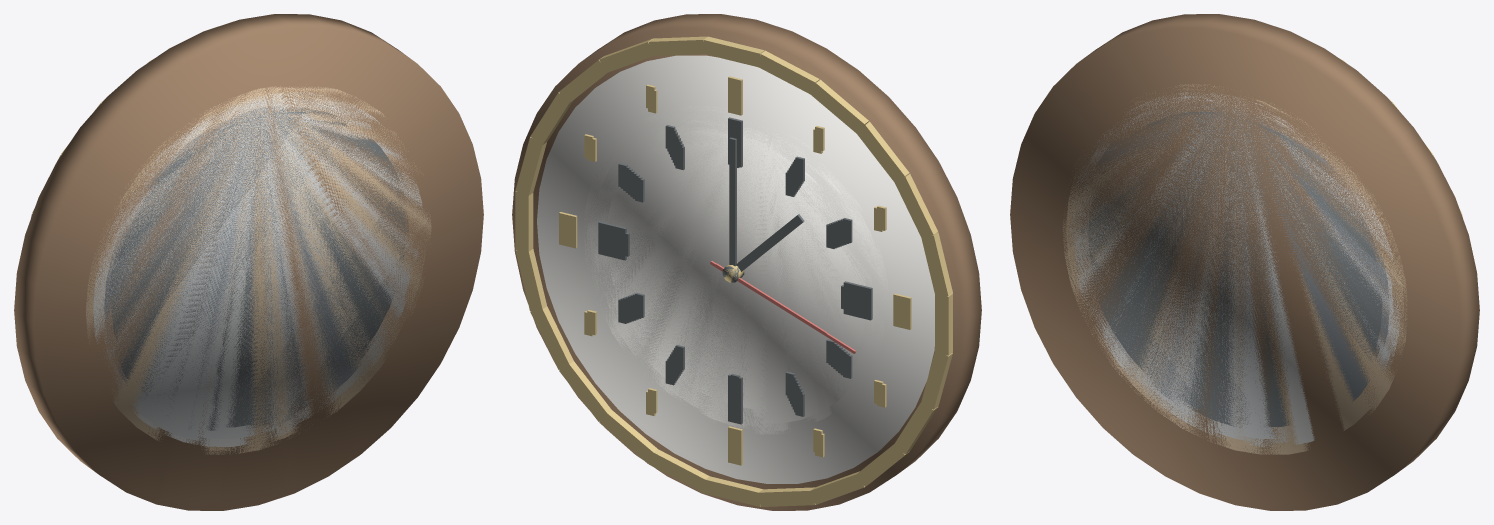
File: Gear08.fbx
3 views of the same model, side by side, from view 1: azimuth 30°, elevation 25°; view 2: azimuth 150°, elevation 25°; view 3: azimuth 330°, elevation 25° (orthographic).
Parts seen in each view (by area): view 1: Gear08_V10_Walnut, Gear08_V5_BrushedSteel, Gear08_V9_Walnut, Gear08_V8_Oak, Gear08_V3_Graphite, Gear08_V1_Charcoal, Gear08_V6_Chrome, Gear08_V7_Oak, Gear08_V2_Charcoal, Gear08_V4_BrushedSteel; view 2: Gear08_V10_Paper, Gear08_V10_Brass, Gear08_V1_Paper, Gear08_V10_Walnut, Gear08_V9_Paper, Gear08_V3_Paper, Gear08_V4_Paper, Gear08_V2_Paper, Gear08_V5_Paper, Gear08_V6_Paper, Gear08_V7_Paper, Gear08_V9_Walnut (+11 smaller); view 3: Gear08_V10_Walnut, Gear08_V9_Walnut, Gear08_V3_Graphite, Gear08_V1_Charcoal, Gear08_V2_Charcoal, Gear08_V6_Chrome, Gear08_V4_BrushedSteel, Gear08_V7_Oak, Gear08_V8_Oak, Gear08_V5_BrushedSteel.
Boxes of the visible parts, x1,y1,x2,y2 form: Gear08_V10_Walnut: (14,14,483,510); Gear08_V5_BrushedSteel: (97,96,418,442); Gear08_V9_Walnut: (39,33,477,505); Gear08_V8_Oak: (85,86,431,454); Gear08_V3_Graphite: (104,106,403,429); Gear08_V1_Charcoal: (111,112,405,427); Gear08_V6_Chrome: (93,92,422,446); Gear08_V7_Oak: (89,88,426,450); Gear08_V2_Charcoal: (108,108,409,430); Gear08_V4_BrushedSteel: (101,103,411,438); Gear08_V10_Paper: (537,55,934,483); Gear08_V10_Brass: (515,36,952,506); Gear08_V1_Paper: (607,130,865,409); Gear08_V10_Walnut: (512,14,981,510); Gear08_V9_Paper: (541,60,931,479); Gear08_V3_Paper: (601,125,871,416); Gear08_V4_Paper: (596,120,875,420); Gear08_V2_Paper: (604,127,861,413); Gear08_V5_Paper: (593,117,877,423); Gear08_V6_Paper: (590,113,880,427); Gear08_V7_Paper: (586,109,884,430); Gear08_V9_Walnut: (533,33,957,488); Gear08_V10_Walnut: (1010,14,1479,510); Gear08_V9_Walnut: (1017,33,1455,505); Gear08_V3_Graphite: (1081,104,1389,434); Gear08_V1_Charcoal: (1088,112,1382,427); Gear08_V2_Charcoal: (1088,110,1385,428); Gear08_V6_Chrome: (1070,92,1400,446); Gear08_V4_BrushedSteel: (1077,100,1393,438); Gear08_V7_Oak: (1066,88,1404,450); Gear08_V8_Oak: (1062,84,1407,454); Gear08_V5_BrushedSteel: (1074,96,1395,442).
Size of the model in its own units: 67.37 by 67.38 by 6.8.
